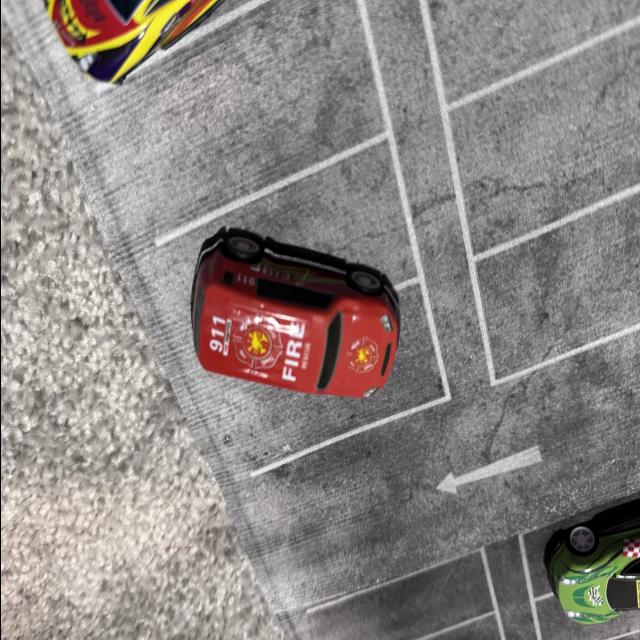Car: (114, 206, 442, 412)
